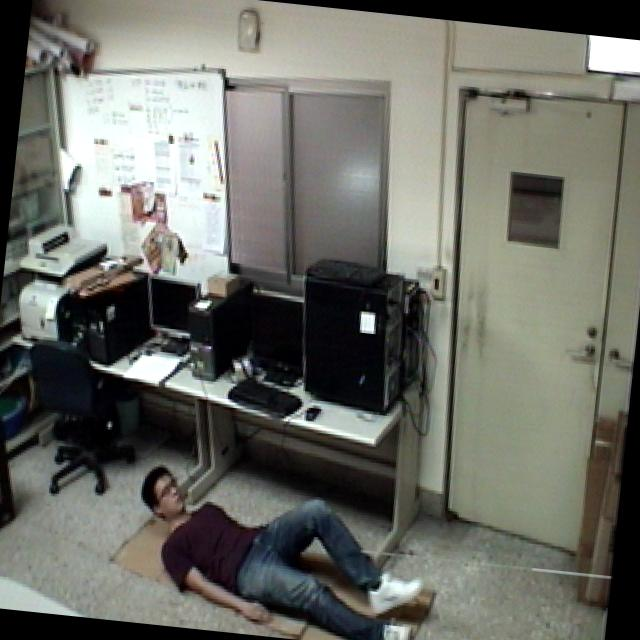lie: (118, 446, 439, 640)
